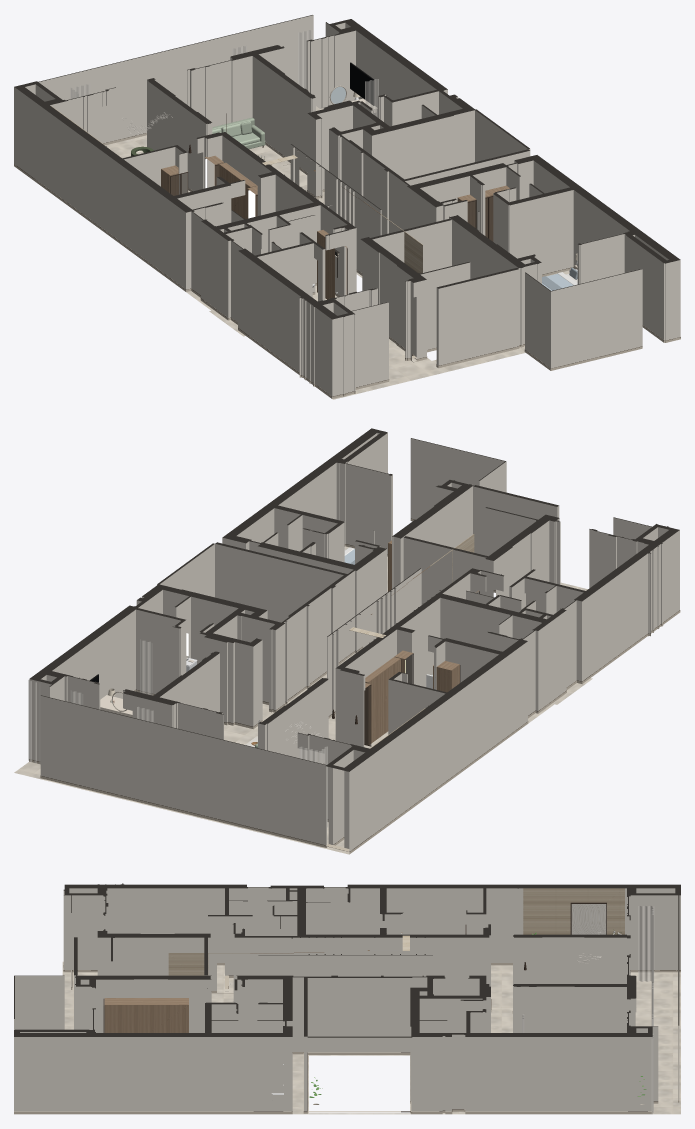
Rendered from ff_house_v16.glb.
3 renders of one model, top to bottom at view 1: azimuth 30°, elevation 25°; view 2: azimuth 150°, elevation 25°; view 3: azimuth 270°, elevation 25°, orthographic. The views are drawn at different scales.
Parts seen in each view (by area): view 1: MeshStandardMaterial_14, MeshStandardMaterial_15, MeshStandardMaterial_1, MeshStandardMaterial_7, MeshStandardMaterial_16, MeshStandardMaterial_104, MeshStandardMaterial_87, MeshStandardMaterial_5, MeshStandardMaterial_96; view 2: MeshStandardMaterial_14, MeshStandardMaterial_15, MeshStandardMaterial_7, MeshStandardMaterial_16, MeshStandardMaterial_1, MeshStandardMaterial_104, MeshStandardMaterial_87; view 3: MeshStandardMaterial_14, MeshStandardMaterial_15, MeshStandardMaterial_1, MeshStandardMaterial_5, MeshStandardMaterial_16, MeshStandardMaterial_7, MeshStandardMaterial_104, MeshStandardMaterial_91.
Part boxes in pixels (<box>): MeshStandardMaterial_14: <box>14,15,680,396</box>; MeshStandardMaterial_15: <box>14,15,680,319</box>; MeshStandardMaterial_1: <box>105,135,569,399</box>; MeshStandardMaterial_7: <box>161,155,509,299</box>; MeshStandardMaterial_16: <box>14,133,680,398</box>; MeshStandardMaterial_104: <box>70,30,378,117</box>; MeshStandardMaterial_87: <box>170,165,493,294</box>; MeshStandardMaterial_5: <box>51,106,422,273</box>; MeshStandardMaterial_96: <box>350,63,373,104</box>; MeshStandardMaterial_14: <box>29,432,679,853</box>; MeshStandardMaterial_15: <box>29,428,679,771</box>; MeshStandardMaterial_7: <box>364,540,478,744</box>; MeshStandardMaterial_16: <box>29,518,680,853</box>; MeshStandardMaterial_1: <box>14,546,680,854</box>; MeshStandardMaterial_104: <box>28,639,327,827</box>; MeshStandardMaterial_87: <box>364,592,479,745</box>; MeshStandardMaterial_14: <box>14,887,680,1111</box>; MeshStandardMaterial_15: <box>14,883,680,1037</box>; MeshStandardMaterial_1: <box>62,961,680,1114</box>; MeshStandardMaterial_5: <box>168,888,624,975</box>; MeshStandardMaterial_16: <box>14,963,680,1114</box>; MeshStandardMaterial_7: <box>104,932,402,1032</box>; MeshStandardMaterial_104: <box>522,905,654,1113</box>; MeshStandardMaterial_91: <box>571,904,606,934</box>.
Size of the model in its own units: 12.9 by 3.02 by 23.57.
Materials: 104 (16 with a texture image).
